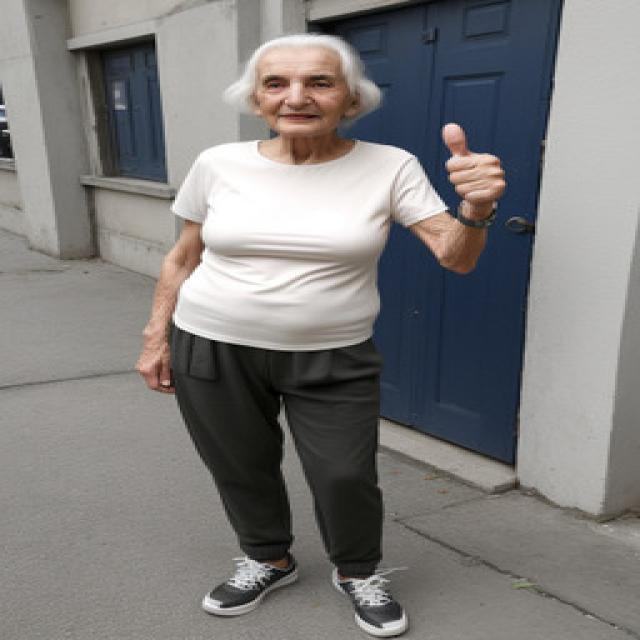Ai human 2: (125, 21, 517, 640)
